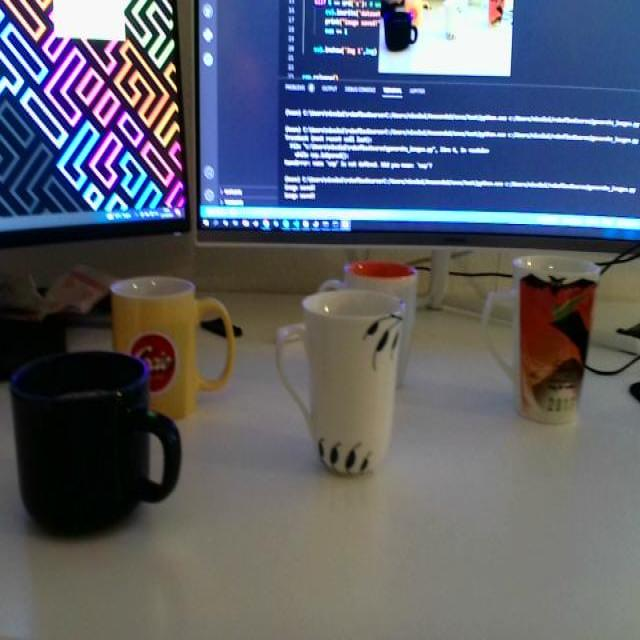cup: (11, 333, 184, 540), (274, 278, 408, 482), (479, 235, 605, 435), (99, 268, 239, 422)
